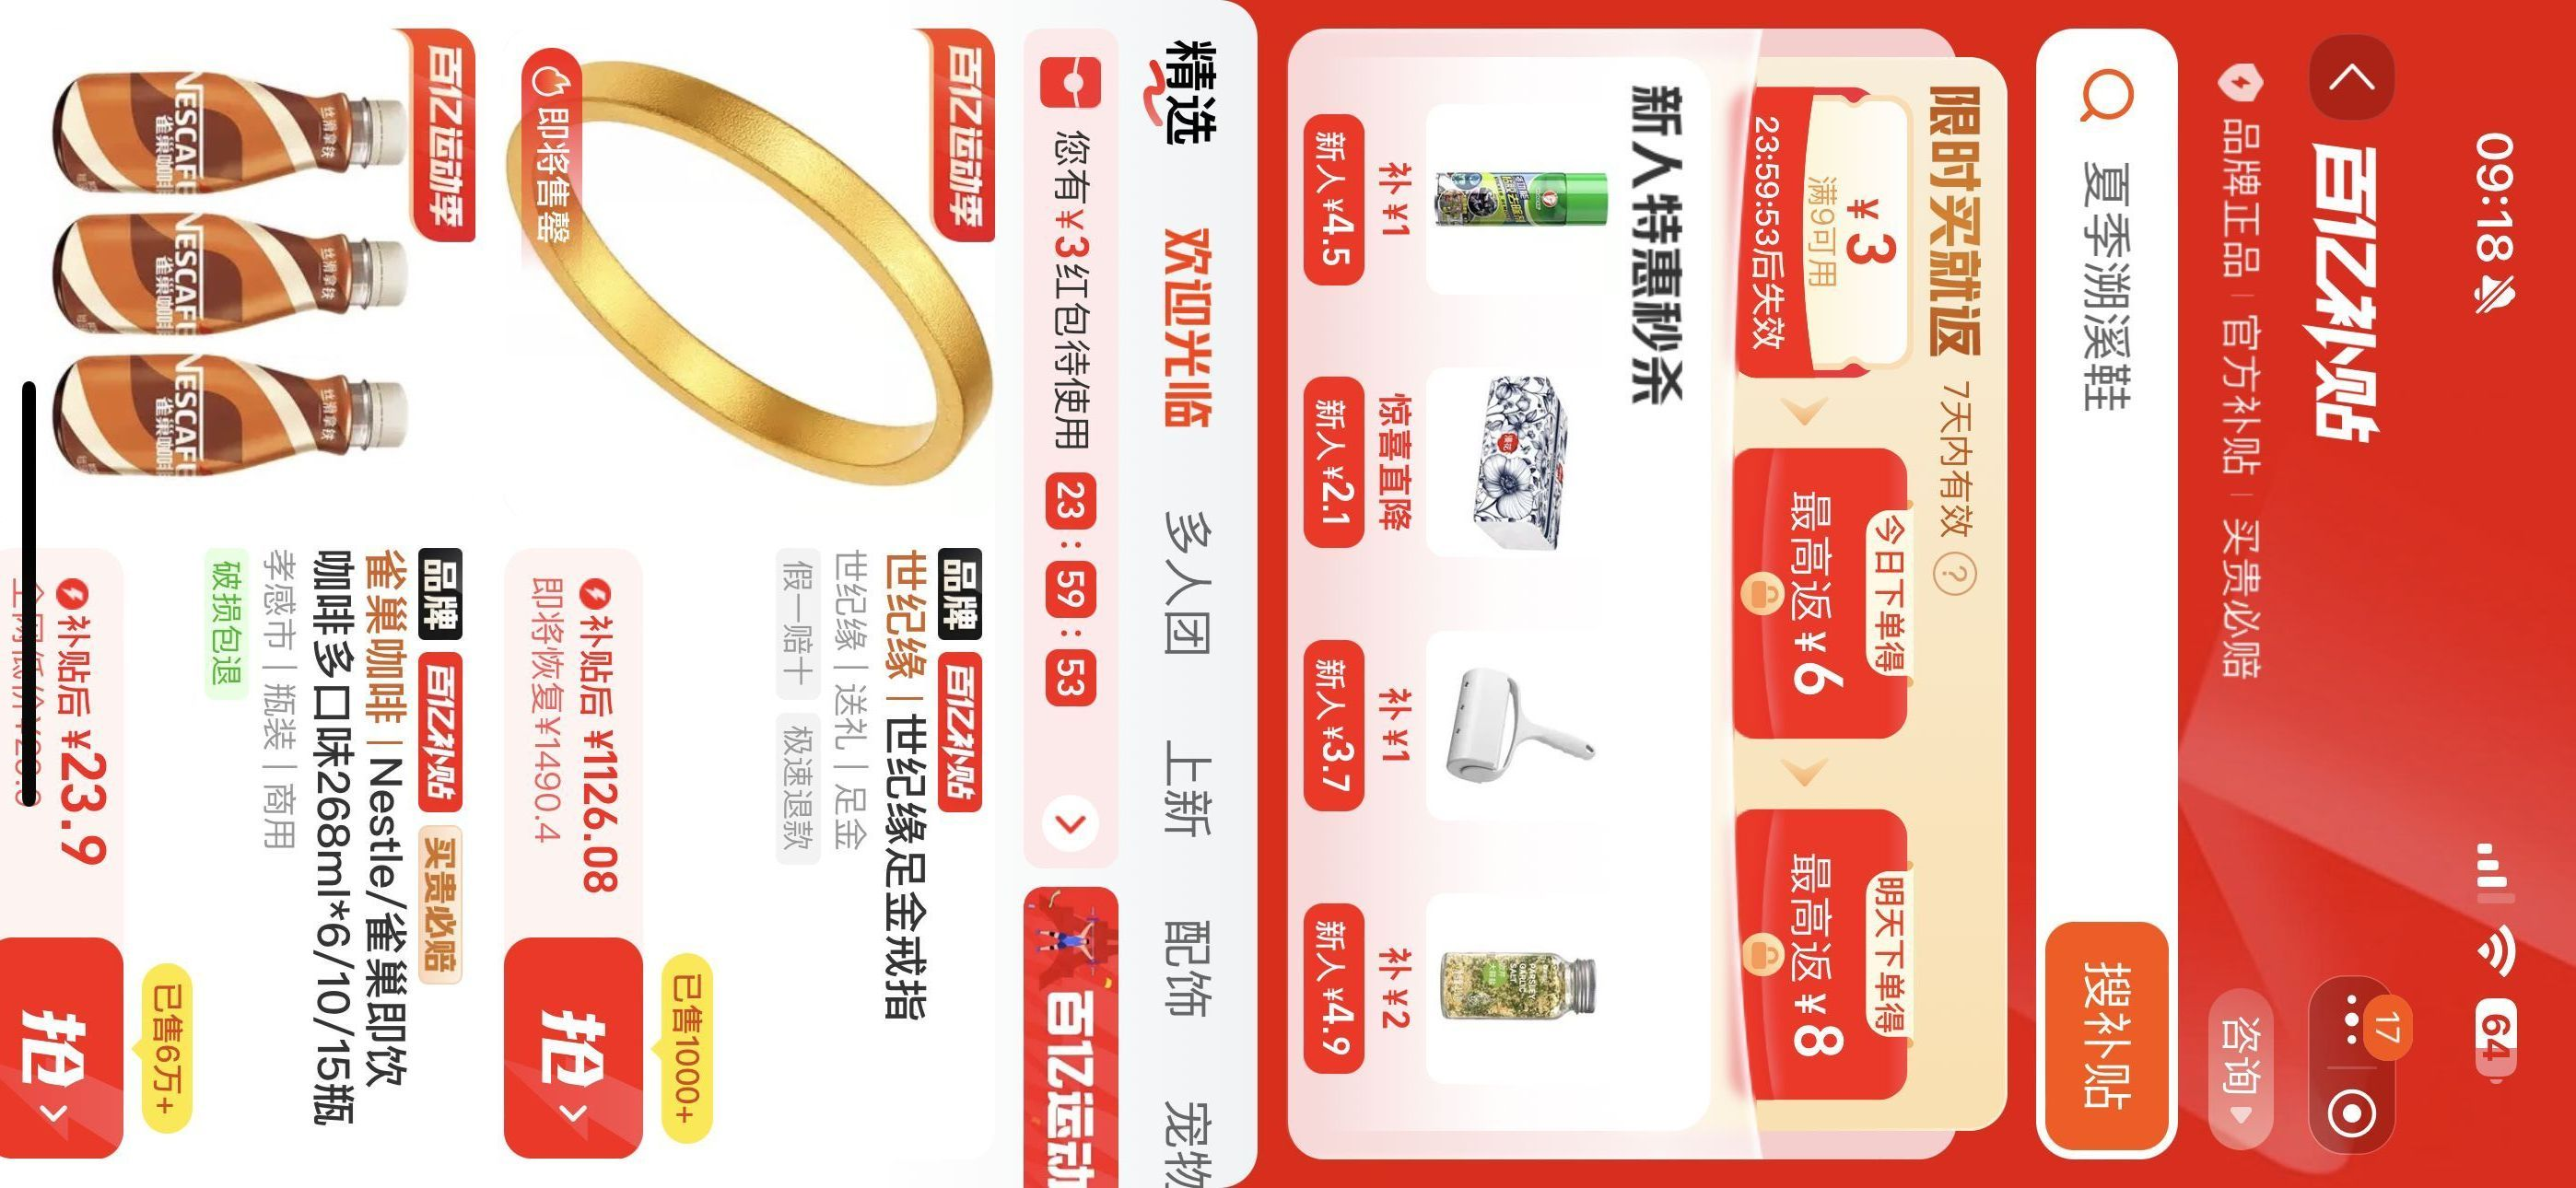item: (509, 5, 1010, 1188), (3, 5, 495, 1185)
op_bar: (2297, 3, 2422, 1181)
seckill: (1275, 3, 2024, 1188)
